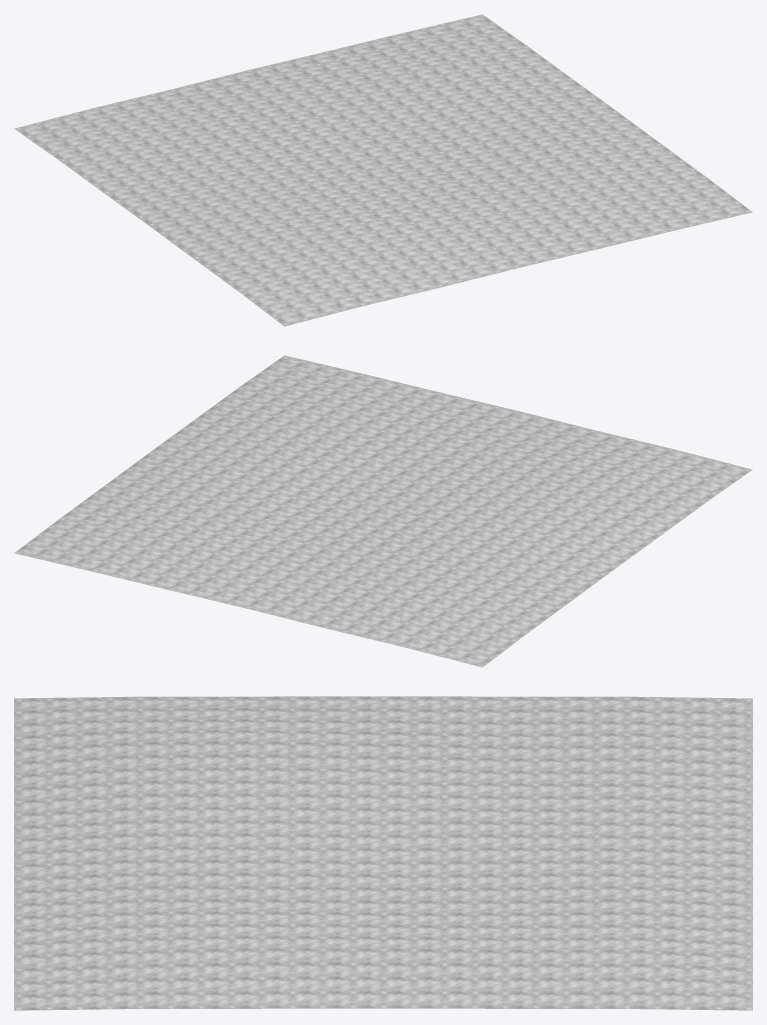
Rendered from AMB_SNOW_GROUND.glb.
3 renders of one model, top to bottom at view 1: azimuth 30°, elevation 25°; view 2: azimuth 150°, elevation 25°; view 3: azimuth 270°, elevation 25°, orthographic. The views are drawn at different scales.
Visible parts, largest first — view 1: J00; view 2: J00; view 3: J00.
Boxes of the visible parts, x1,y1,x2,y2 form: J00: [14, 14, 752, 326]; J00: [14, 355, 752, 667]; J00: [14, 696, 752, 1010].
Size of the model in its own units: 200 by 2.79 by 200.
1 material, 1 textured.
